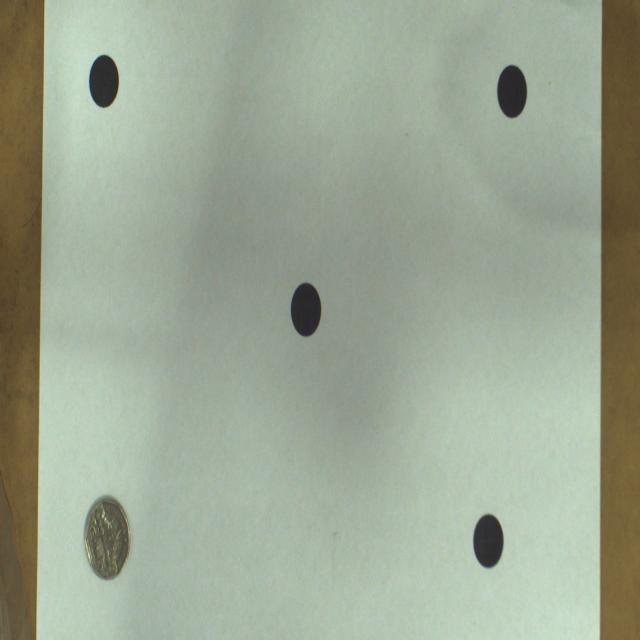space: (472, 513, 504, 569), (498, 64, 528, 120), (89, 56, 120, 109), (291, 284, 321, 336)
tail5bath: (85, 496, 130, 580)
